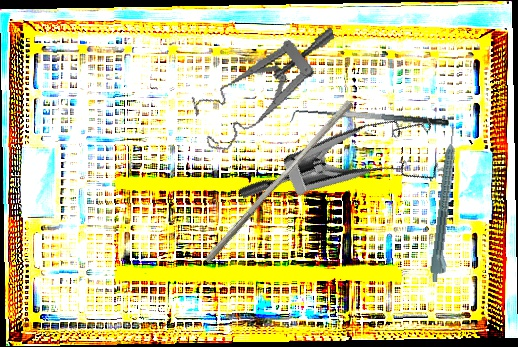Handpiece: (428, 126, 466, 284)
Pusher: (204, 94, 354, 270)
Spatula Surgical: (290, 101, 450, 140)
Speculum: (236, 79, 458, 272), (182, 25, 356, 156)
